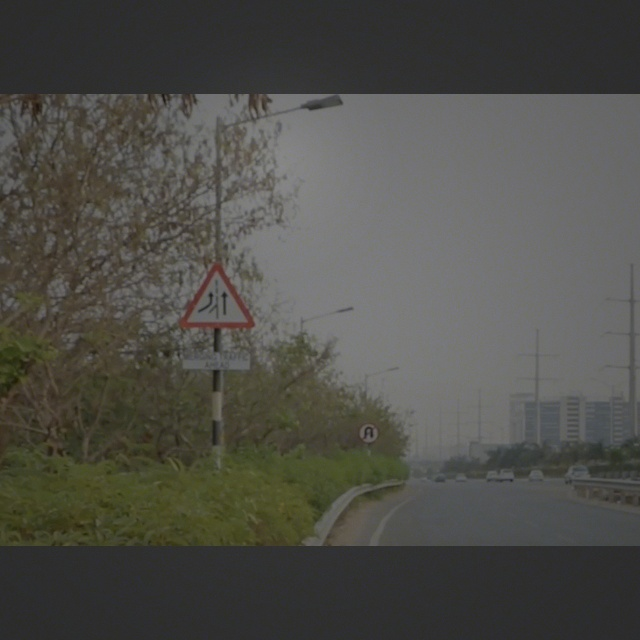Merge_Traffic_Ahead: (174, 252, 259, 333)
